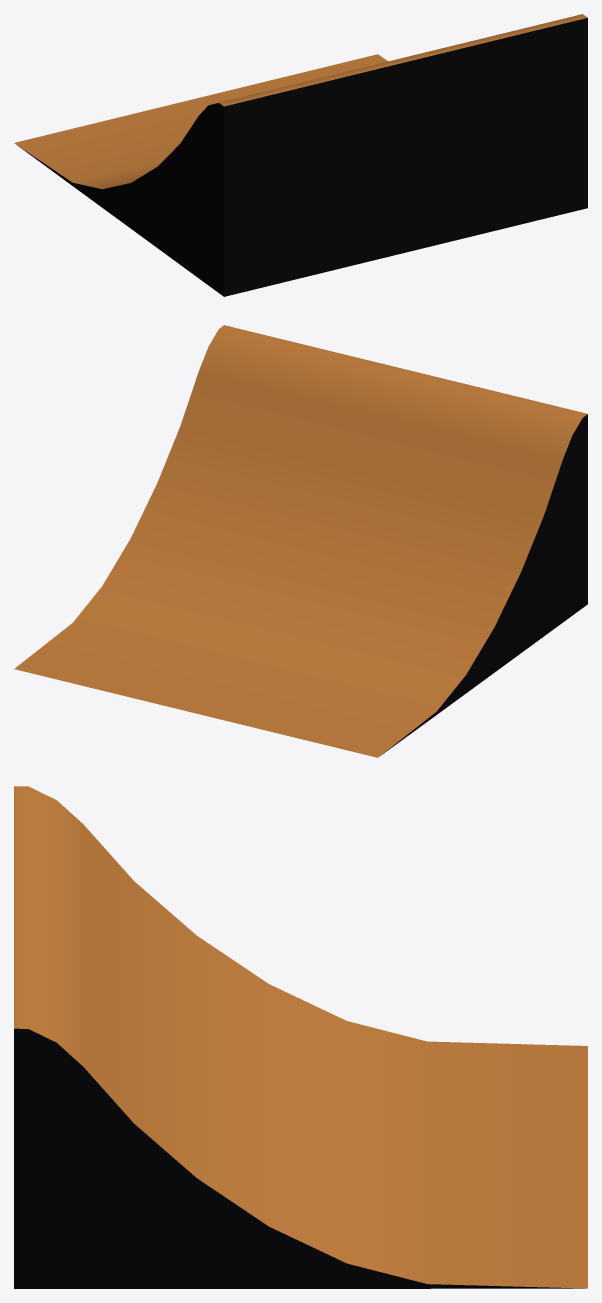
The model's file is Quater_SML_Drop_Full.obj.
3 renders of one model, top to bottom at view 1: azimuth 30°, elevation 25°; view 2: azimuth 150°, elevation 25°; view 3: azimuth 270°, elevation 25°, orthographic. The views are drawn at different scales.
Parts seen in each view (by area): view 1: Quater_SML_Drop_Full; view 2: Quater_SML_Drop_Full; view 3: Quater_SML_Drop_Full.
Boxes of the visible parts, x1=… form: Quater_SML_Drop_Full: x1=14, y1=14, x2=587, y2=296; Quater_SML_Drop_Full: x1=14, y1=325, x2=587, y2=757; Quater_SML_Drop_Full: x1=14, y1=786, x2=587, y2=1288.
Size of the model in its own units: 10 by 5 by 10.
